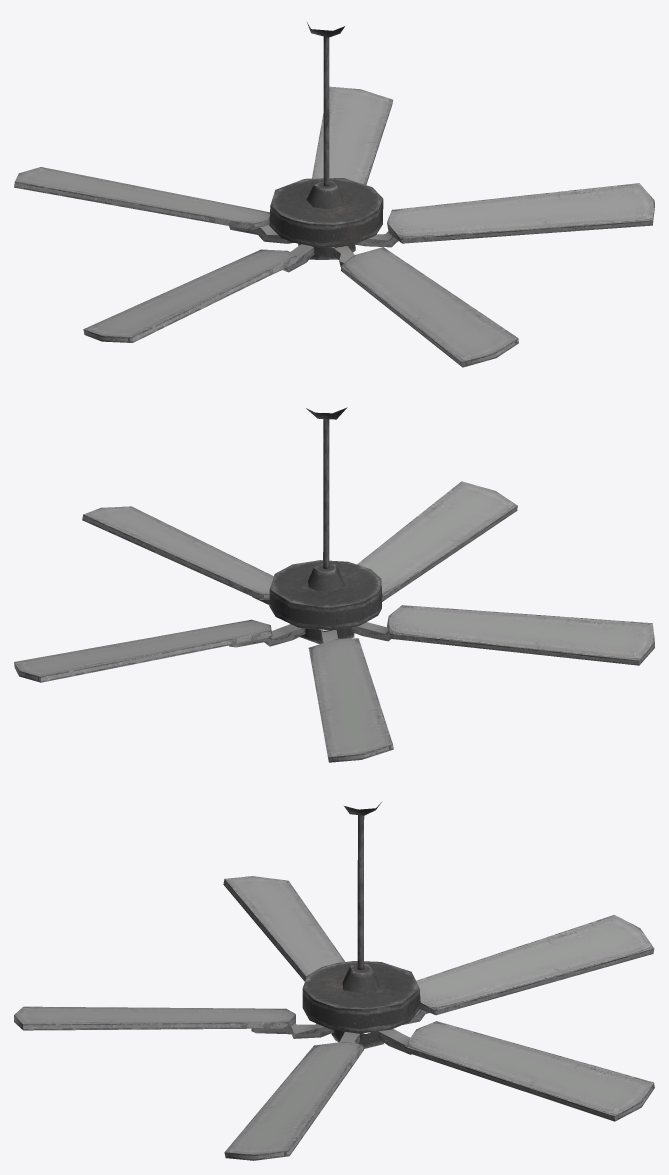
File: SM_Ceiling_Fan.glb
3 renders of one model, top to bottom at view 1: azimuth 30°, elevation 25°; view 2: azimuth 150°, elevation 25°; view 3: azimuth 270°, elevation 25°, orthographic. The views are drawn at different scales.
Visible parts, largest first — view 1: SM_Ceiling_Fan; view 2: SM_Ceiling_Fan; view 3: SM_Ceiling_Fan.
Boxes of the visible parts, x1,y1,x2,y2 form: SM_Ceiling_Fan: (14,22,654,367); SM_Ceiling_Fan: (14,407,654,762); SM_Ceiling_Fan: (14,802,654,1160).
Bounding box in the file's own units: 1.63 × 0.6414 × 1.57.
Materials: 1 (1 with a texture image).
